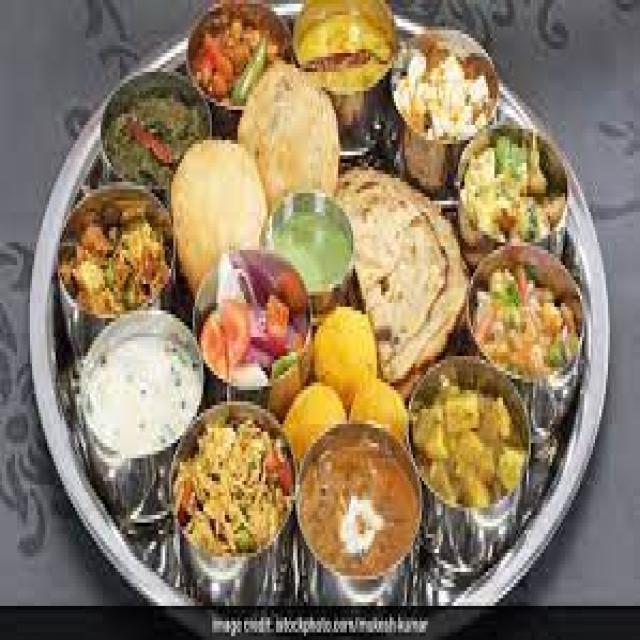dal: (295, 430, 422, 581)
papad: (350, 171, 465, 382)
raita: (66, 307, 204, 484)
rice: (64, 313, 207, 483), (416, 356, 542, 538), (178, 401, 291, 579), (398, 24, 492, 148)
veg-fry: (416, 357, 541, 539), (468, 225, 588, 403)
